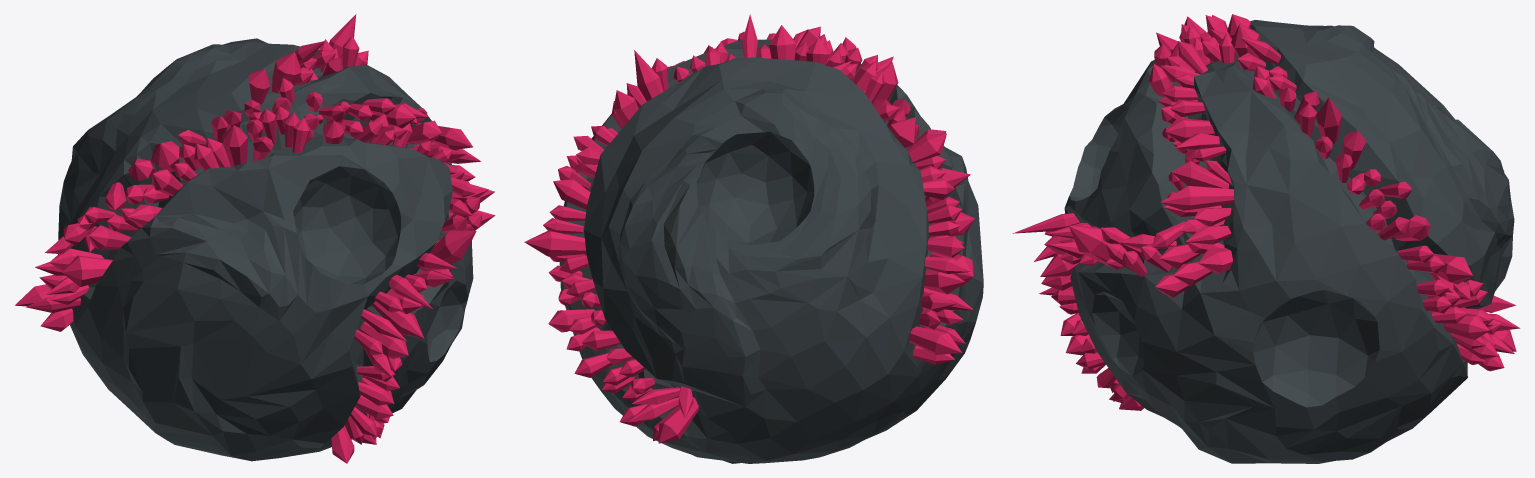
File: PlanetCrystal.glb
The picture shows the model from 3 angles, left to right: view 1: azimuth 30°, elevation 25°; view 2: azimuth 150°, elevation 25°; view 3: azimuth 270°, elevation 25°; orthographic projection. The views are drawn at different scales.
Visible parts, largest first — view 1: Planet_48; view 2: Planet_48; view 3: Planet_48.
Part boxes in pixels (bbox=[...]): Planet_48: bbox=[15, 14, 495, 463]; Planet_48: bbox=[524, 14, 983, 463]; Planet_48: bbox=[1012, 14, 1520, 463].
Bounding box in the file's own units: 21.98 × 21.45 × 23.08.
1 material, 1 textured.
